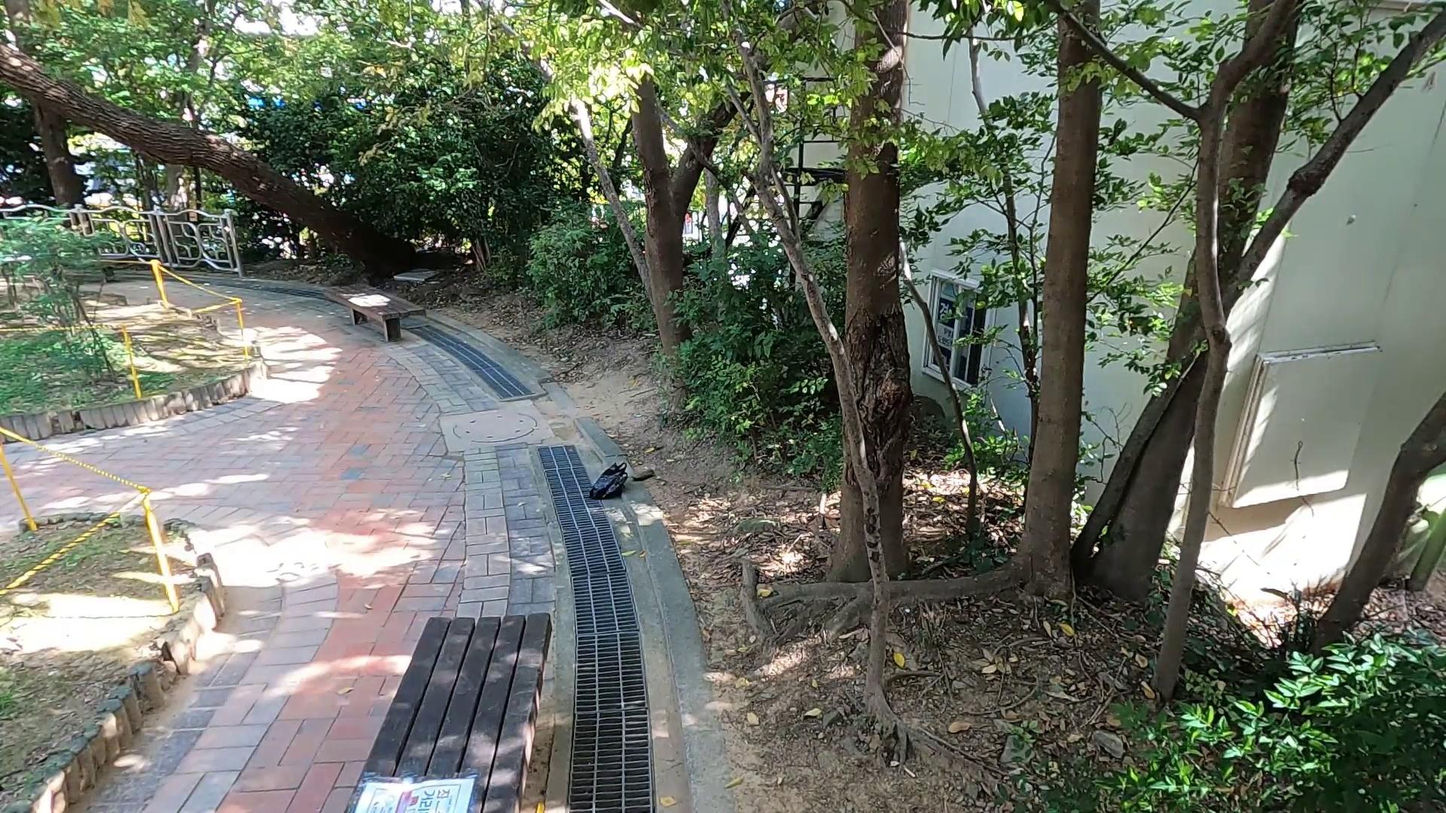trash: (589, 461, 628, 500)
